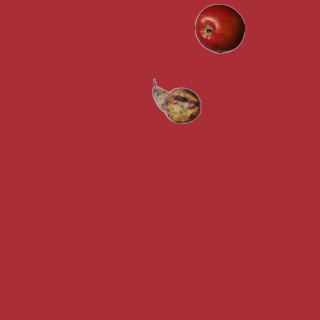Apple Braeburn: (194, 3, 244, 53)
Pear Abate: (151, 76, 201, 126)
